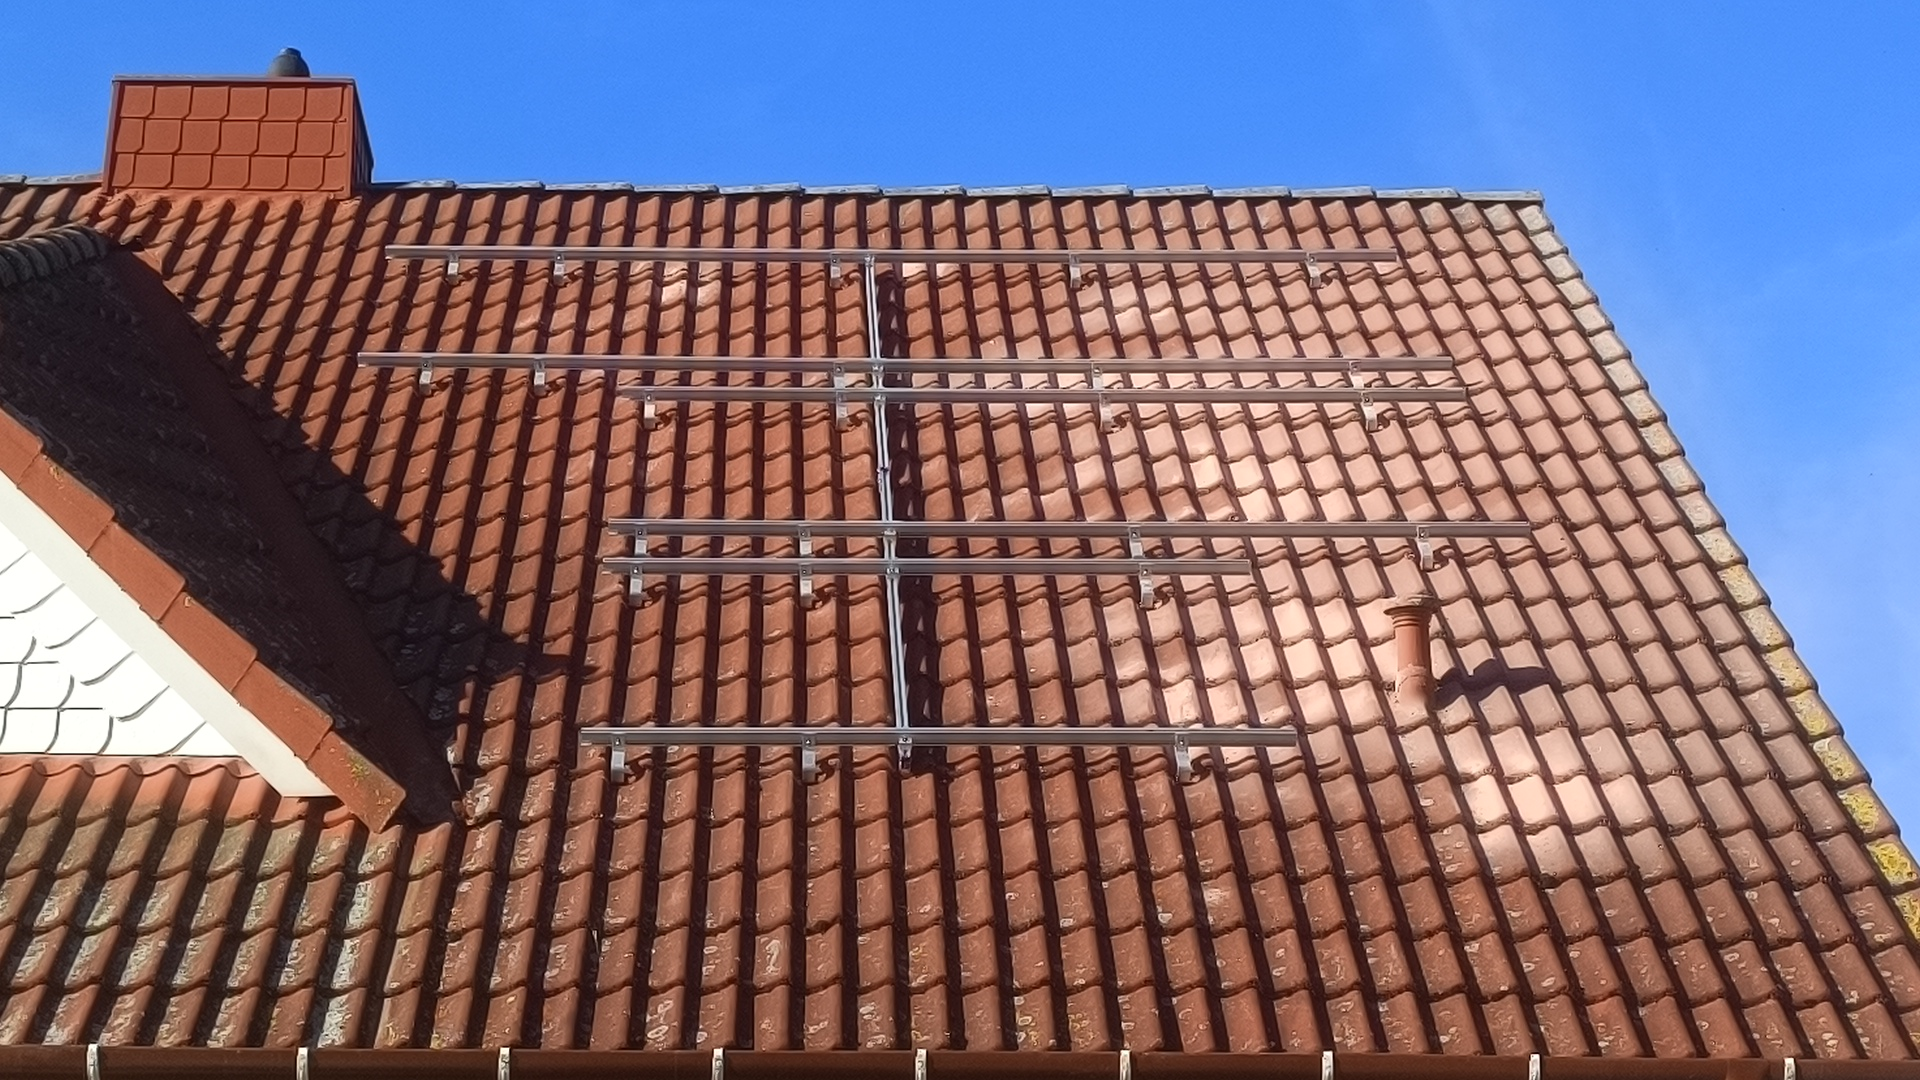hook: (1174, 731, 1192, 783), (1415, 525, 1433, 570), (800, 733, 816, 783), (611, 732, 625, 785), (1137, 563, 1153, 609), (1360, 392, 1377, 431), (629, 563, 644, 608), (799, 564, 814, 609), (1305, 252, 1323, 287), (1098, 392, 1112, 433), (446, 248, 460, 285), (835, 392, 848, 431), (798, 524, 814, 556), (1127, 525, 1143, 558), (419, 357, 433, 396), (534, 357, 547, 396), (1068, 252, 1081, 289), (553, 251, 566, 286), (644, 389, 655, 429), (633, 526, 647, 556), (829, 252, 841, 289), (1348, 360, 1364, 388), (833, 363, 847, 389), (1092, 363, 1102, 389)
